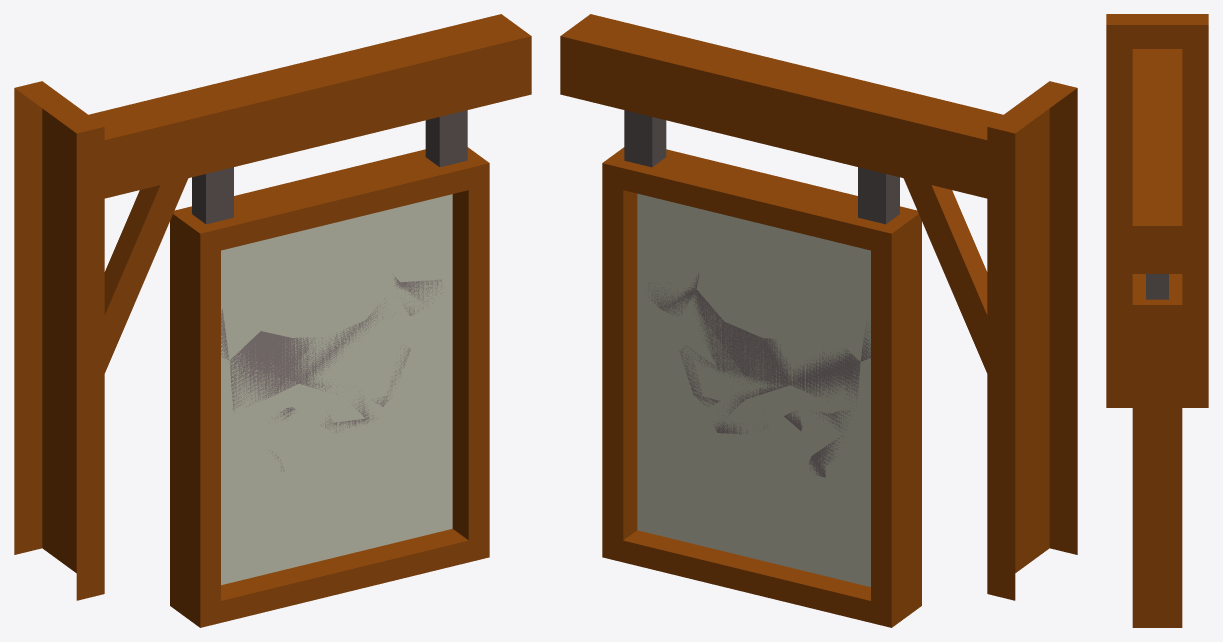
File: model_loc_1065_q.obj
The picture shows the model from 3 angles, left to right: view 1: azimuth 30°, elevation 25°; view 2: azimuth 150°, elevation 25°; view 3: azimuth 270°, elevation 25°; orthographic projection. The views are drawn at different scales.
Parts seen in each view (by area): view 1: 1927; view 2: 1927; view 3: 1927.
Boxes of the visible parts, box(x1,y1,x2,y2) form: 1927: box(14, 14, 531, 627); 1927: box(560, 14, 1077, 627); 1927: box(1106, 14, 1208, 627).
Bounding box in the file's own units: 135 × 148 × 31.
